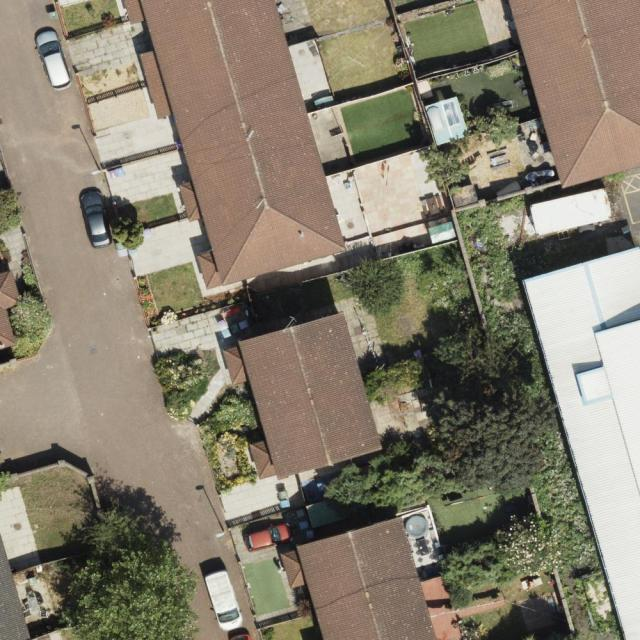roof: (121, 0, 350, 293), (522, 246, 640, 640), (219, 308, 385, 485), (507, 0, 640, 189), (280, 515, 436, 639), (0, 526, 30, 639), (0, 244, 22, 351)
